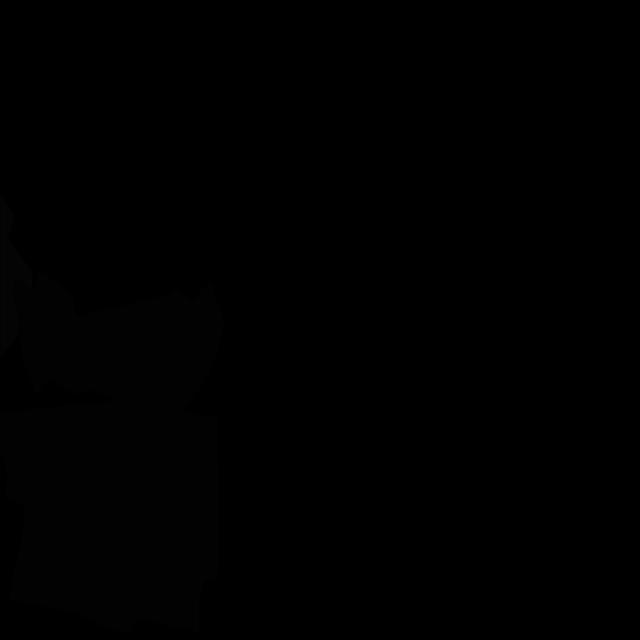cardboard: (0, 400, 219, 633), (10, 270, 225, 411)
soft_plastic: (0, 192, 32, 358)
